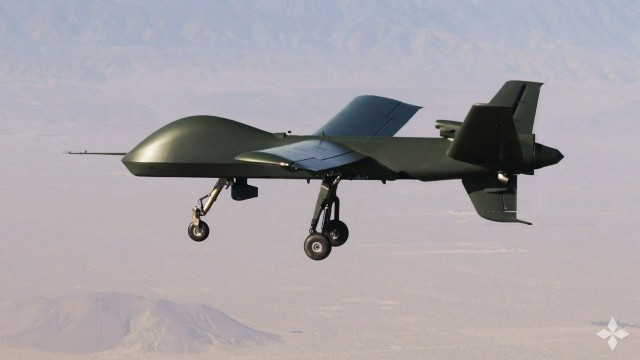maybay_khongnguoilai: (108, 89, 555, 242)
